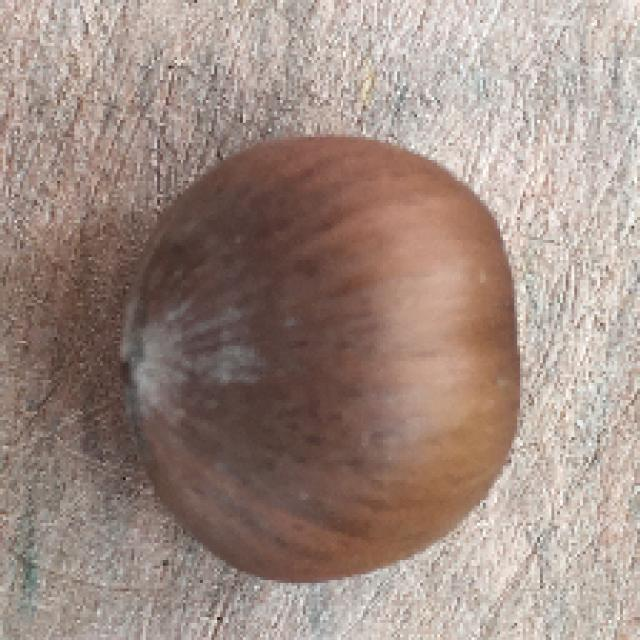qualityHazelnut: (125, 127, 523, 582)
